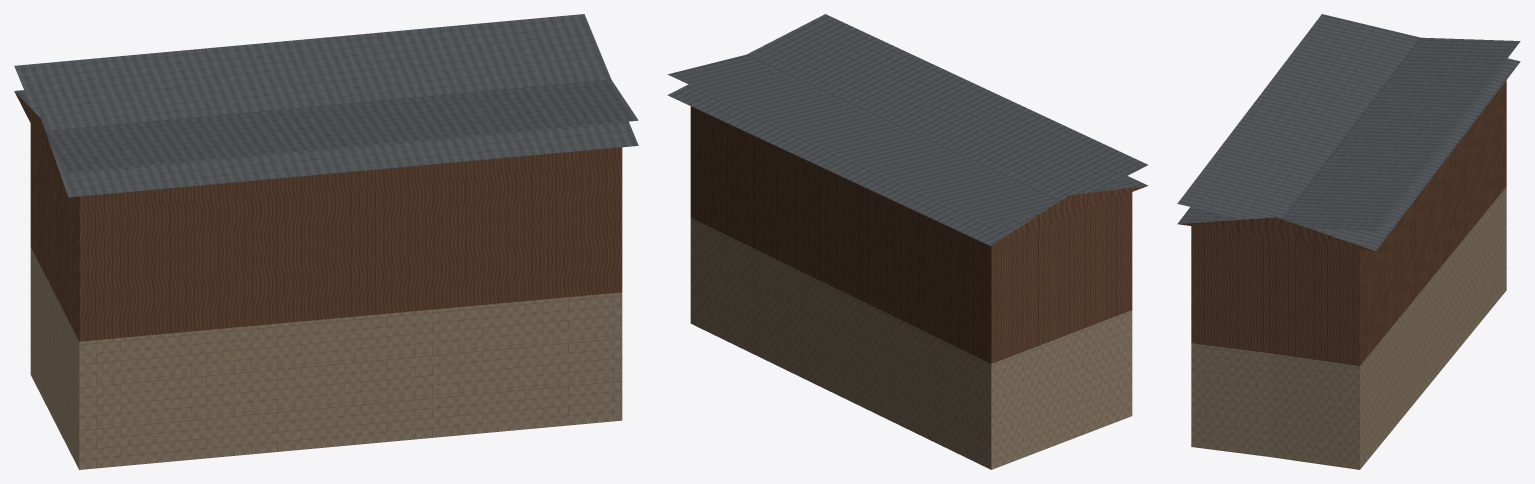
Rendered from bld_c-17_19_504.gltf.
The picture shows the model from 3 angles, left to right: view 1: azimuth 30°, elevation 25°; view 2: azimuth 150°, elevation 25°; view 3: azimuth 270°, elevation 25°; orthographic projection. The views are drawn at different scales.
Visible parts, largest first — view 1: bld_c-17_19_504; view 2: bld_c-17_19_504; view 3: bld_c-17_19_504.
Part boxes in pixels (left/top/right/bottom): bld_c-17_19_504: left=14, top=14, right=638, bottom=469; bld_c-17_19_504: left=667, top=14, right=1147, bottom=469; bld_c-17_19_504: left=1177, top=14, right=1520, bottom=469.
Bounding box in the file's own units: 22.85 × 12.1 × 15.3.
4 materials, 4 textured.
